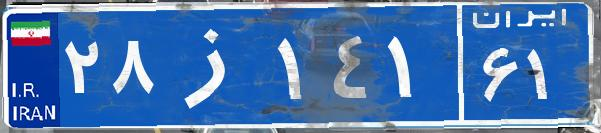1: (385, 28, 445, 110), (273, 28, 330, 110), (525, 38, 570, 115)
2: (57, 26, 110, 107)
4: (330, 28, 385, 110)
6: (475, 38, 525, 113)
8: (110, 28, 158, 105)
ز: (158, 15, 273, 115)
